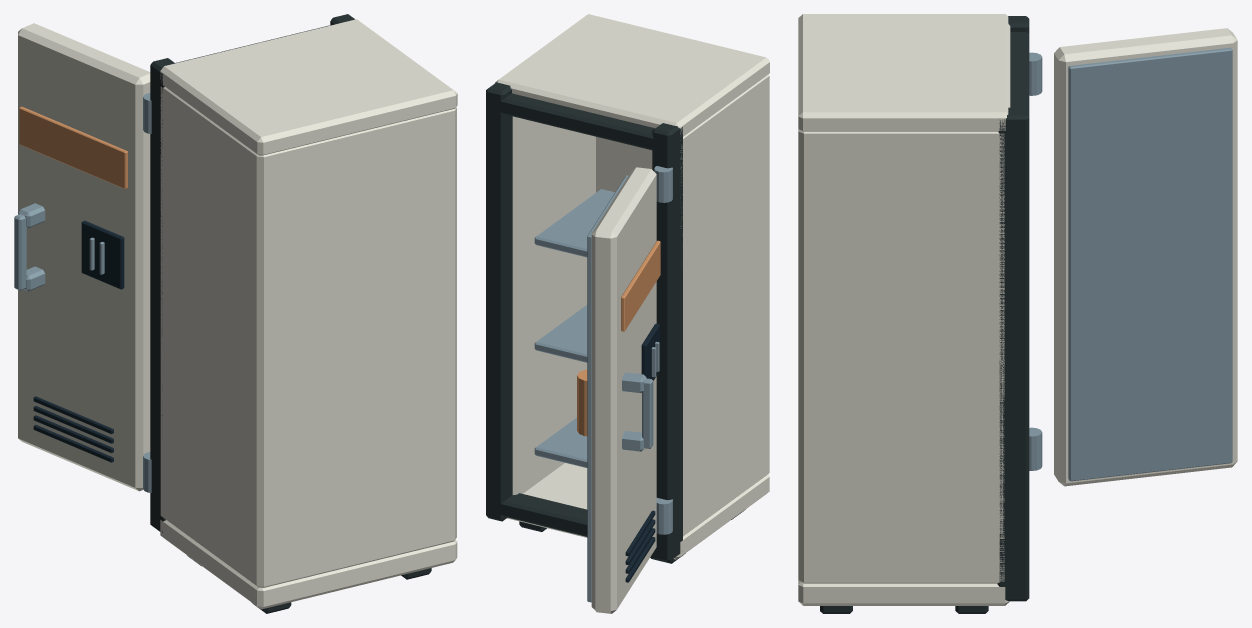
Rendered from maritime_signal_locker_opened.glb.
3 views of the same model, side by side, from view 1: azimuth 30°, elevation 25°; view 2: azimuth 150°, elevation 25°; view 3: azimuth 270°, elevation 25° (orthographic). The views are drawn at different scales.
Parts seen in each view (by area): view 1: body_back_wall, body_side_wall (×2), moving_door, body_roof, body_floor, front_side_frame, moving_signal_band, moving_speaker, moving_handle_grip; view 2: body_side_wall (×2), moving_door, front_side_frame (×2), body_roof, front_cross_frame (×2), interior_shelf (×3), body_floor, body_back_wall, moving_inner_panel, moving_signal_band, hinge_pin (×2), moving_handle_mount (×2) (+3 smaller); view 3: body_side_wall, moving_inner_panel, body_roof, front_side_frame, moving_door, body_floor, body_back_wall, front_cross_frame, hinge_pin.
Boxes of the visible parts, x1,y1,x2,y2 form: body_back_wall: [248, 109, 454, 585]; body_side_wall (×2): [160, 86, 456, 587]; moving_door: [18, 23, 150, 491]; body_roof: [160, 19, 457, 155]; body_floor: [160, 520, 457, 609]; front_side_frame: [150, 58, 174, 533]; moving_signal_band: [19, 106, 127, 188]; moving_speaker: [81, 220, 124, 289]; moving_handle_grip: [14, 214, 26, 290]; body_side_wall (×2): [512, 74, 769, 536]; moving_door: [591, 167, 656, 613]; front_side_frame (×2): [486, 82, 682, 561]; body_roof: [495, 14, 769, 136]; front_cross_frame (×2): [486, 93, 682, 552]; interior_shelf (×3): [534, 189, 614, 467]; body_floor: [507, 463, 769, 559]; body_back_wall: [596, 78, 769, 472]; moving_inner_panel: [587, 175, 627, 602]; moving_signal_band: [621, 240, 660, 331]; hinge_pin (×2): [654, 166, 672, 534]; moving_handle_mount (×2): [622, 372, 646, 451]; body_side_wall: [798, 129, 1004, 583]; moving_inner_panel: [1068, 47, 1232, 481]; body_roof: [798, 14, 1010, 131]; front_side_frame: [998, 107, 1029, 601]; moving_door: [1054, 28, 1237, 486]; body_floor: [798, 580, 1009, 605]; body_back_wall: [804, 132, 820, 583]; front_cross_frame: [999, 32, 1029, 137]; hinge_pin: [1029, 52, 1042, 95].
Size of the model in its own units: 0.9396 by 1.7 by 1.33.
